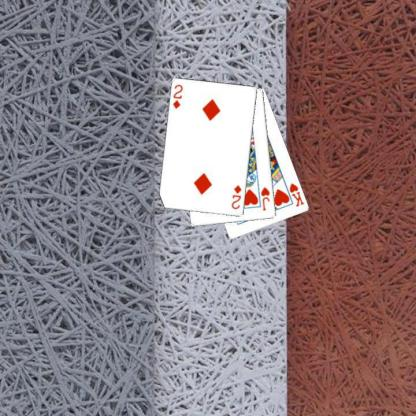2D: (170, 82, 184, 110), (229, 183, 243, 210)
JH: (259, 185, 271, 211)
KH: (287, 181, 306, 208)
